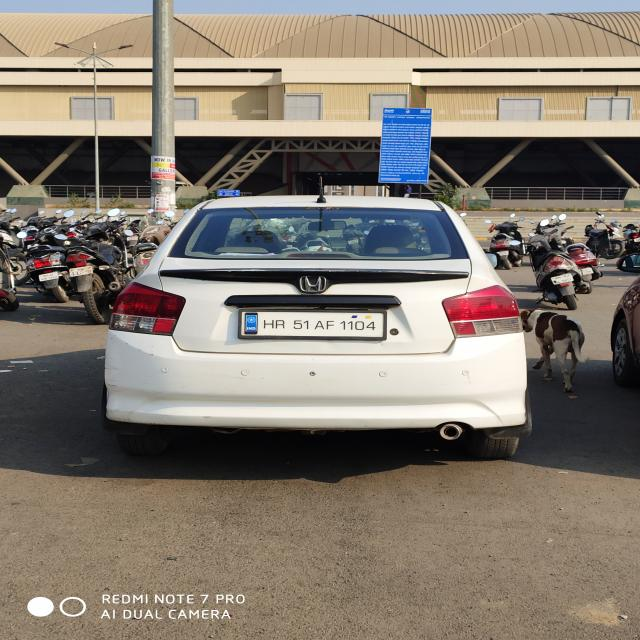Number-Plate: (245, 310, 380, 338)
